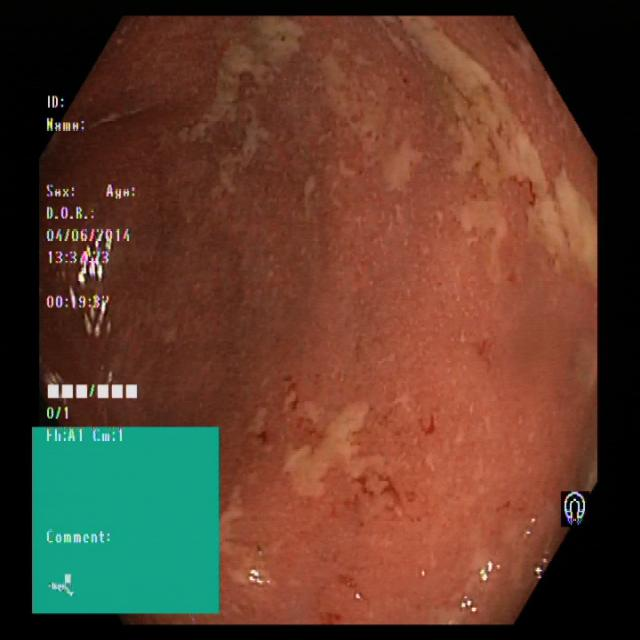ulcerative-colities: (56, 15, 327, 465), (360, 9, 597, 284), (262, 368, 423, 533)
